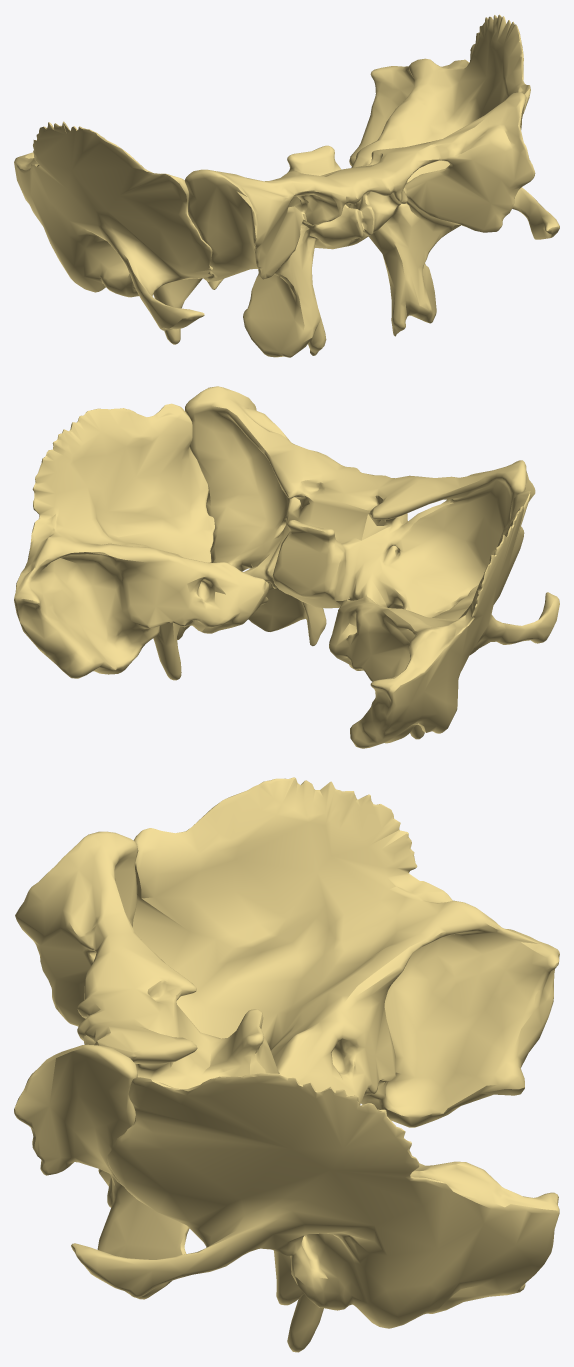
3 views of the same model, one above another, from view 1: azimuth 30°, elevation 25°; view 2: azimuth 150°, elevation 25°; view 3: azimuth 270°, elevation 25° (orthographic). The views are drawn at different scales.
Parts seen in each view (by area): view 1: head-neck:sphenoid-bone:isa:FJ3394, head-neck:temporal-bone:isa:FJ3386, head-neck:temporal-bone:isa:FJ3281; view 2: head-neck:sphenoid-bone:isa:FJ3394, head-neck:temporal-bone:isa:FJ3281, head-neck:temporal-bone:isa:FJ3386; view 3: head-neck:temporal-bone:isa:FJ3386, head-neck:temporal-bone:isa:FJ3281, head-neck:sphenoid-bone:isa:FJ3394.
Part boxes in pixels (<box>): head-neck:sphenoid-bone:isa:FJ3394: <box>184,92,535,357</box>; head-neck:temporal-bone:isa:FJ3386: <box>14,121,213,344</box>; head-neck:temporal-bone:isa:FJ3281: <box>349,14,559,239</box>; head-neck:sphenoid-bone:isa:FJ3394: <box>185,386,535,646</box>; head-neck:temporal-bone:isa:FJ3281: <box>14,403,268,680</box>; head-neck:temporal-bone:isa:FJ3386: <box>329,490,559,748</box>; head-neck:temporal-bone:isa:FJ3386: <box>132,777,559,1127</box>; head-neck:temporal-bone:isa:FJ3281: <box>71,1073,559,1352</box>; head-neck:sphenoid-bone:isa:FJ3394: <box>14,831,279,1299</box>.
Size of the model in its own units: 0.1466 by 0.0761 by 0.11.
